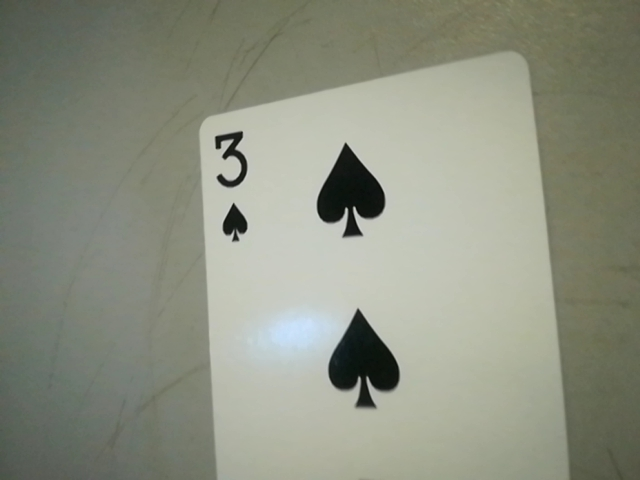ht 3: (202, 122, 261, 249)
